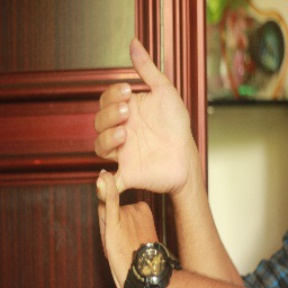S: (89, 31, 195, 287)
